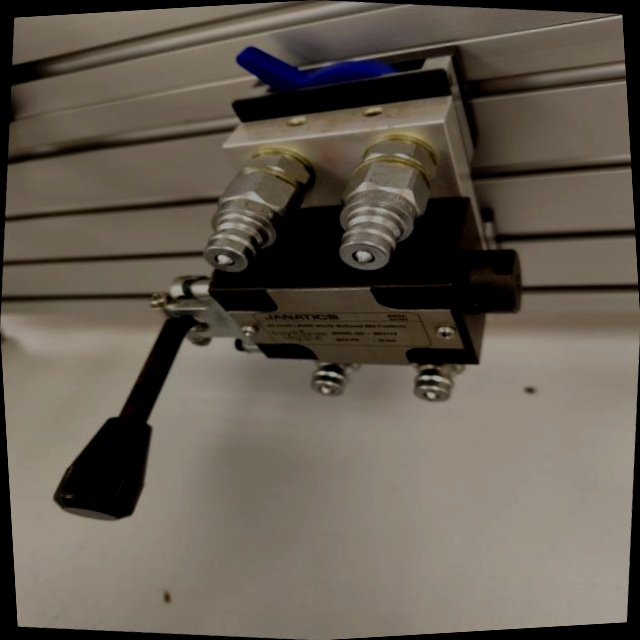4by3 hand lever valve: (0, 0, 576, 579)
